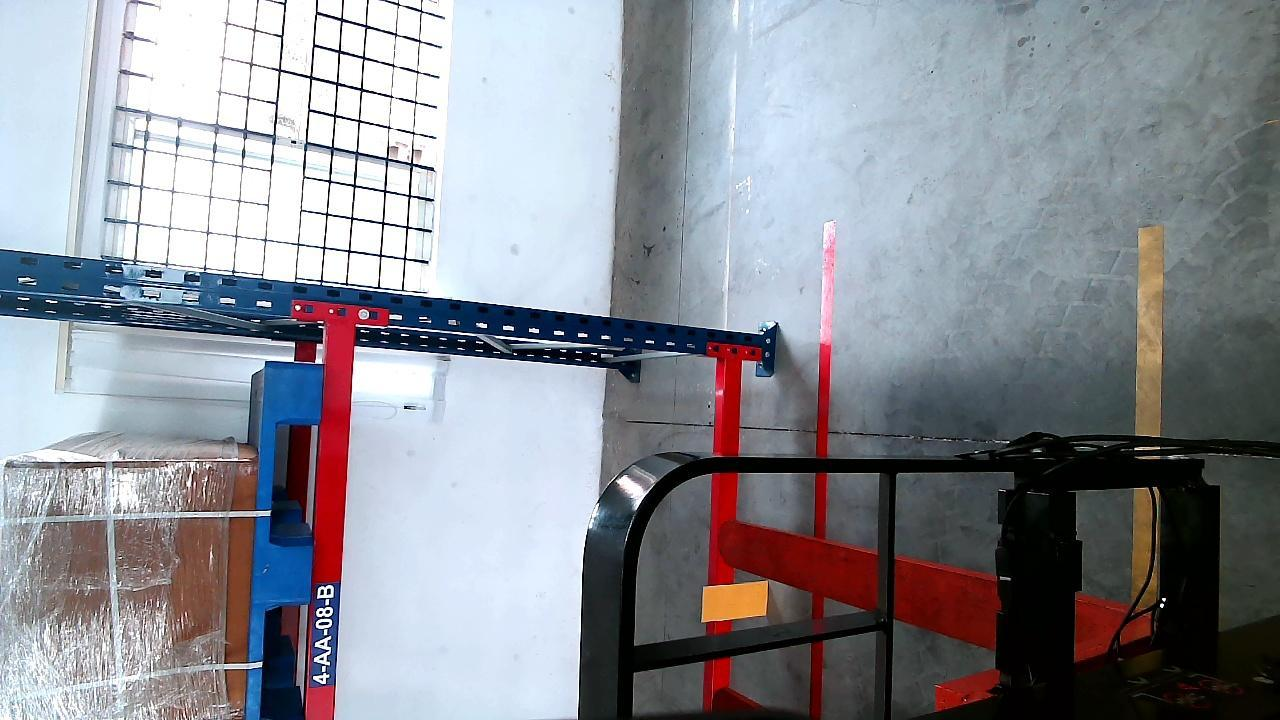red_line: (807, 225, 836, 714)
yellow_line: (1134, 222, 1163, 617)
